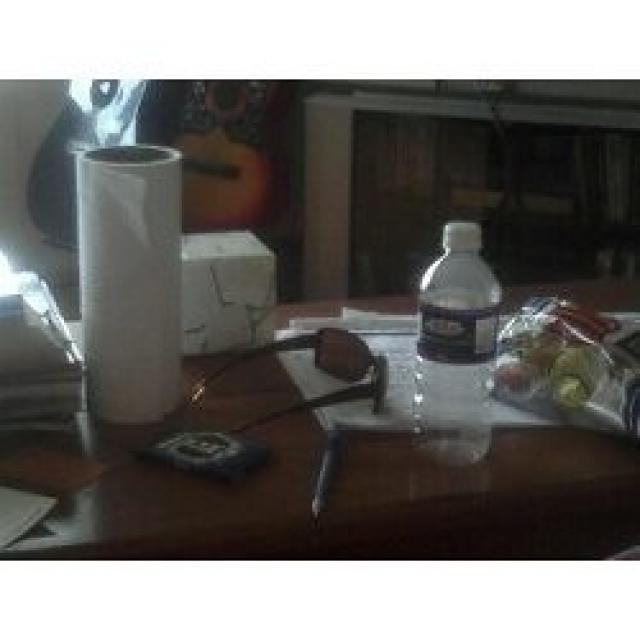plastic_bottle: (411, 222, 500, 466)
